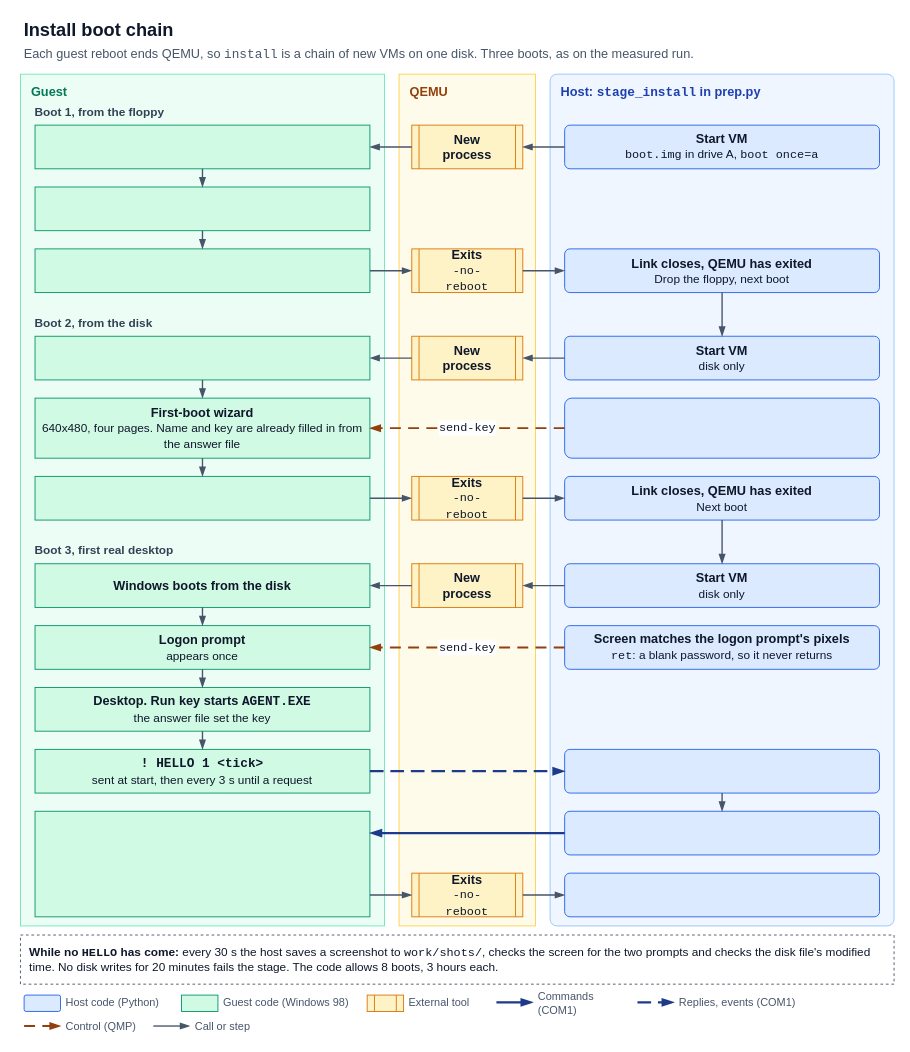
This 910x1052 diagram has some shape labels left out. Here are the shapes that lost their labels. From the top down, the centre of each, then its label:
(x=202, y=146): Floppy boots JO.SYS menu deleted, so it can't fall back to C:
(x=202, y=208): AUTOEXEC.BAT runs Setup SETUP.EXE C:\WIN98\MSBATCH.INF
(x=202, y=270): Setup copies the Windows files, then reboots
(x=202, y=357): mbr.bin chains to the boot sector Setup carries on
(x=722, y=427): Screen matches the wizard's pixels Presses through it, alt+a accepts the licence
(x=202, y=497): Setup sets up hardware, then reboots
(x=722, y=770): wait_event("HELLO") returns wait_ready() checks with PING
(x=722, y=832): acall ExitWindowsEx reboot, forced
(x=202, y=863): Windows goes down the reboot ends QEMU, as every reboot here does
(x=722, y=894): Stage install done
